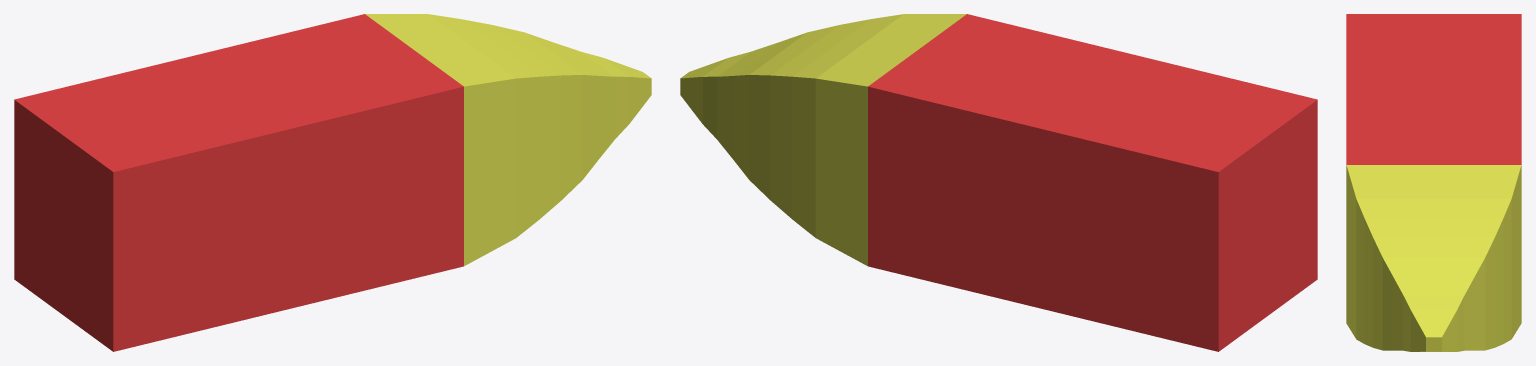
Rendered from pocisk.glb.
The picture shows the model from 3 angles, left to right: view 1: azimuth 30°, elevation 25°; view 2: azimuth 150°, elevation 25°; view 3: azimuth 270°, elevation 25°; orthographic projection. The views are drawn at different scales.
Visible parts, largest first — view 1: Cube; view 2: Cube; view 3: Cube.
Part boxes in pixels (<box>): Cube: <box>14,14,651,351</box>; Cube: <box>680,14,1317,351</box>; Cube: <box>1346,14,1521,351</box>.
Size of the model in its own units: 3.96 by 1.17 by 1.17.
